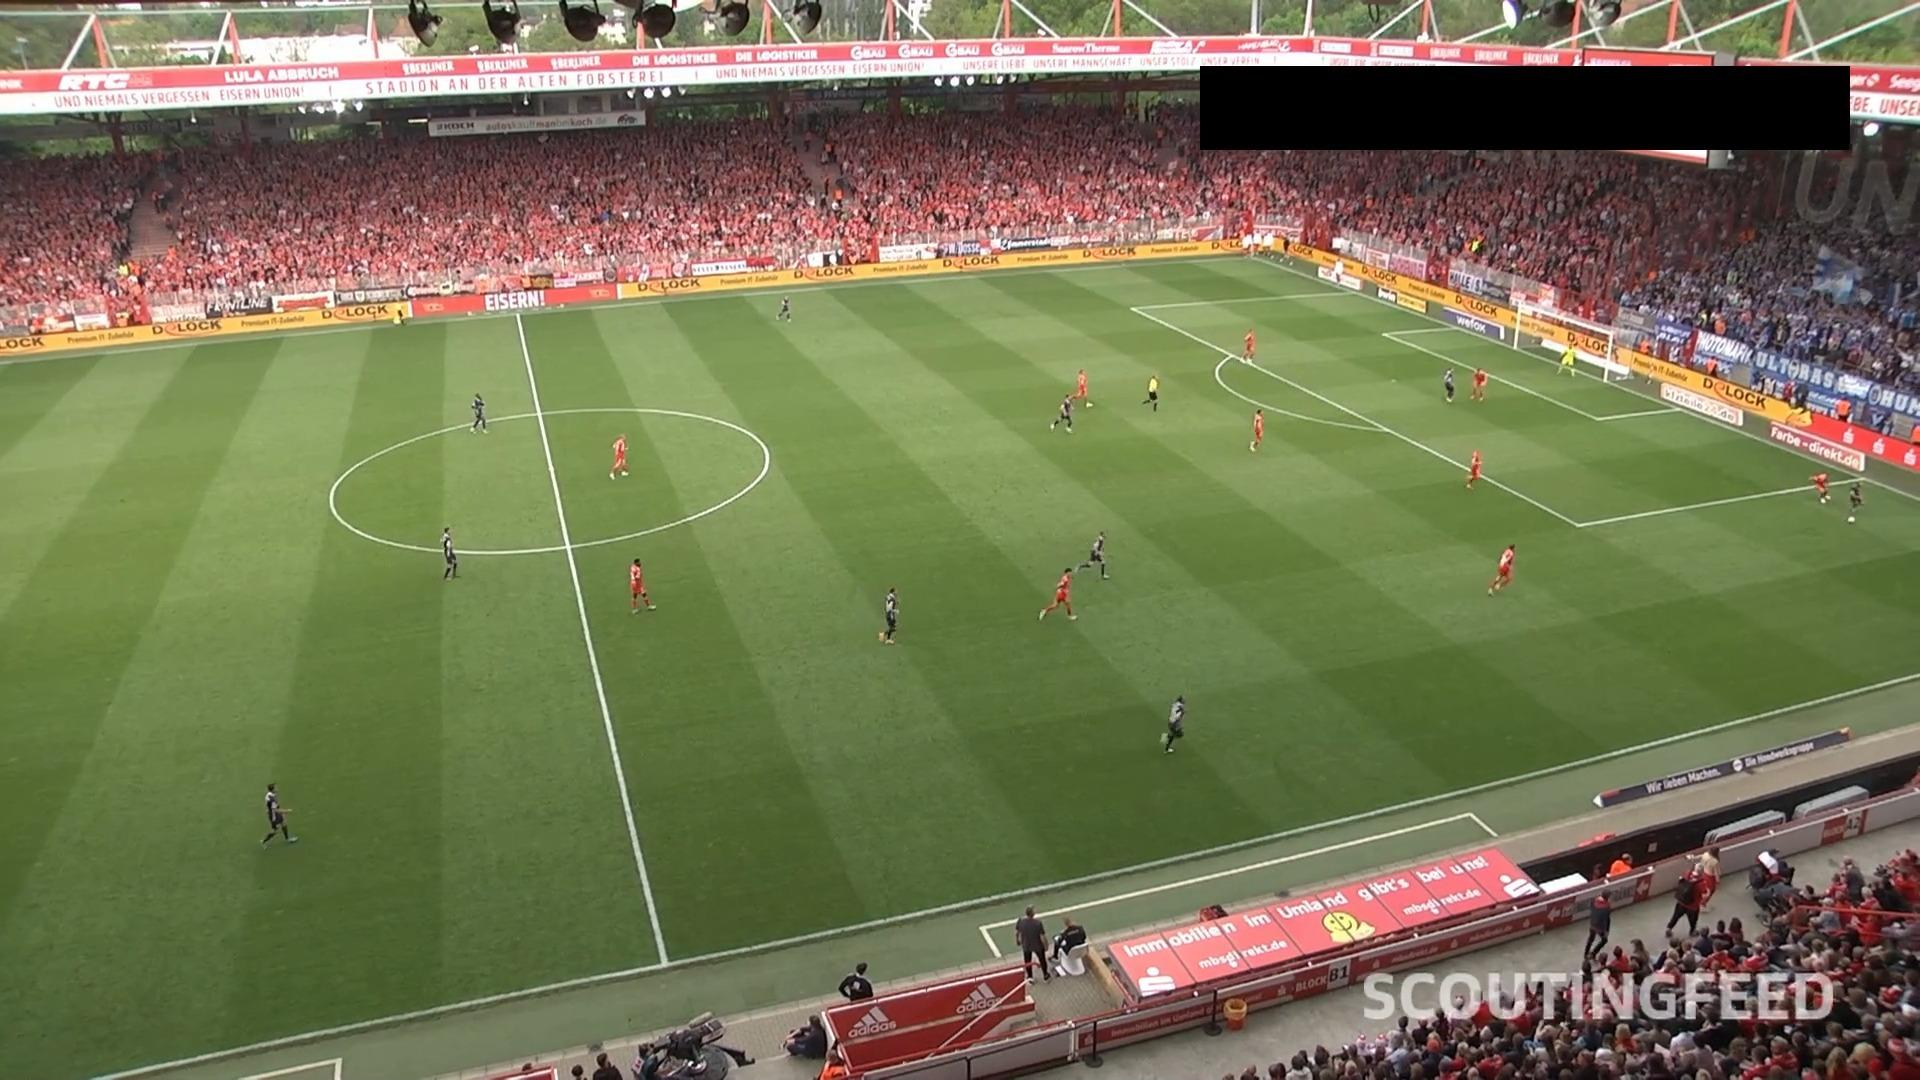ball: (1846, 514, 1857, 525)
